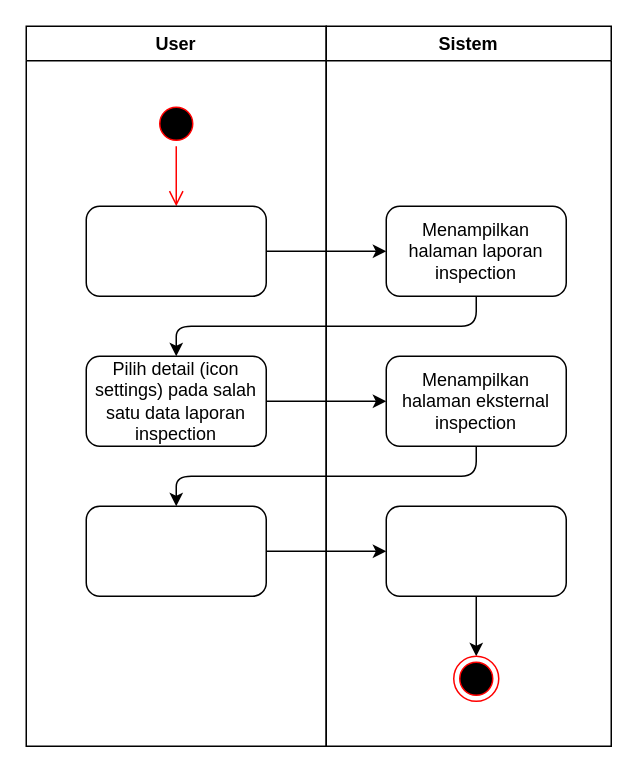
The diagram is 638 pixels wide and 773 high, and some of its shapes have lost their labels. Here are the shapes that lost their labels. From the top down, the centre of each, then its label:
At (x=175, y=250): "Pilih fitur laporan inspection".
At (x=175, y=550): "Pilih hapus (icon stop) pada salah satu data eksternal inspection".
At (x=475, y=550): "Perubahan data berhasil tersimpan".
